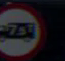Heavy Vehicles: (0, 1, 44, 57)
